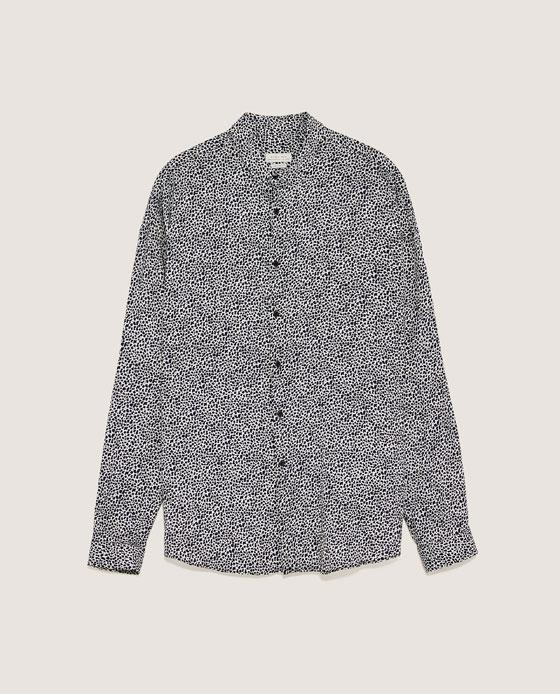teeshirt: (77, 111, 483, 591)
